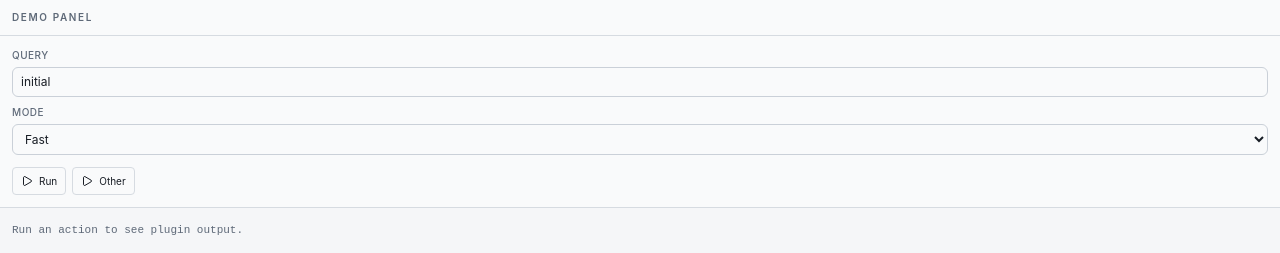
Test: PluginPanel › renders declarative fields and runs actions with defaults
This screenshot has width=1280, height=253.
Expected: the text "Demo panel" is shown, [12,10,93,25]
Replace the text in the field labelled "Query" with "needle" at (640, 82), box [12,67,1268,97]
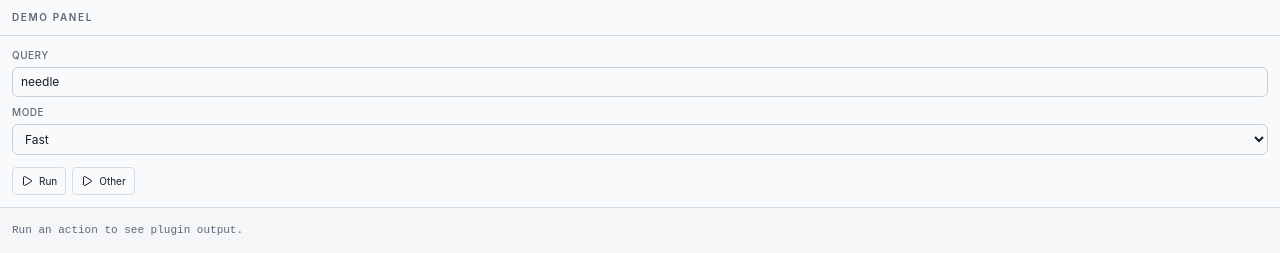
Click the button "Run".
click(39, 181)  # box [12,167,66,195]
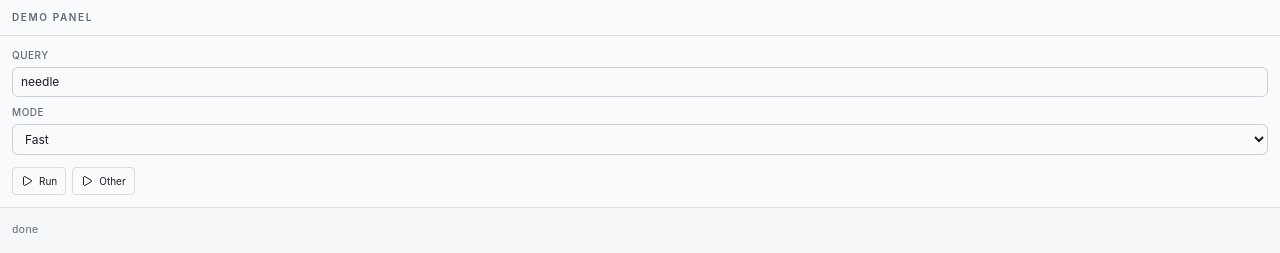
Now the text named "Demo panel output" reads "done", box [12,224,38,236]
